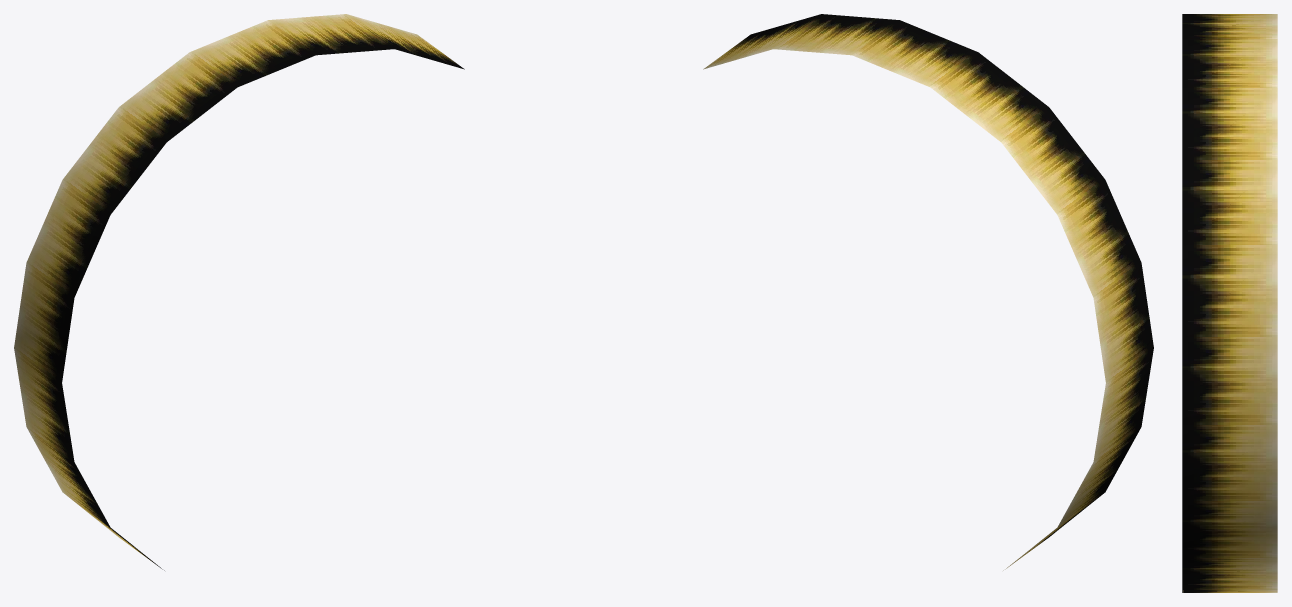
File: Aurora.glb
3 renders of one model, left to right at view 1: azimuth 30°, elevation 25°; view 2: azimuth 150°, elevation 25°; view 3: azimuth 270°, elevation 25°, orthographic.
Visible parts, largest first — view 1: model_Aurora; view 2: model_Aurora; view 3: model_Aurora.
Boxes of the visible parts, left/top/right/bottom form: model_Aurora: left=14, top=14, right=464, bottom=570; model_Aurora: left=703, top=14, right=1153, bottom=570; model_Aurora: left=1182, top=14, right=1277, bottom=592.
Bounding box in the file's own units: 6.03 × 6.03 × 0.9881.
Materials: 1 (1 with a texture image).
